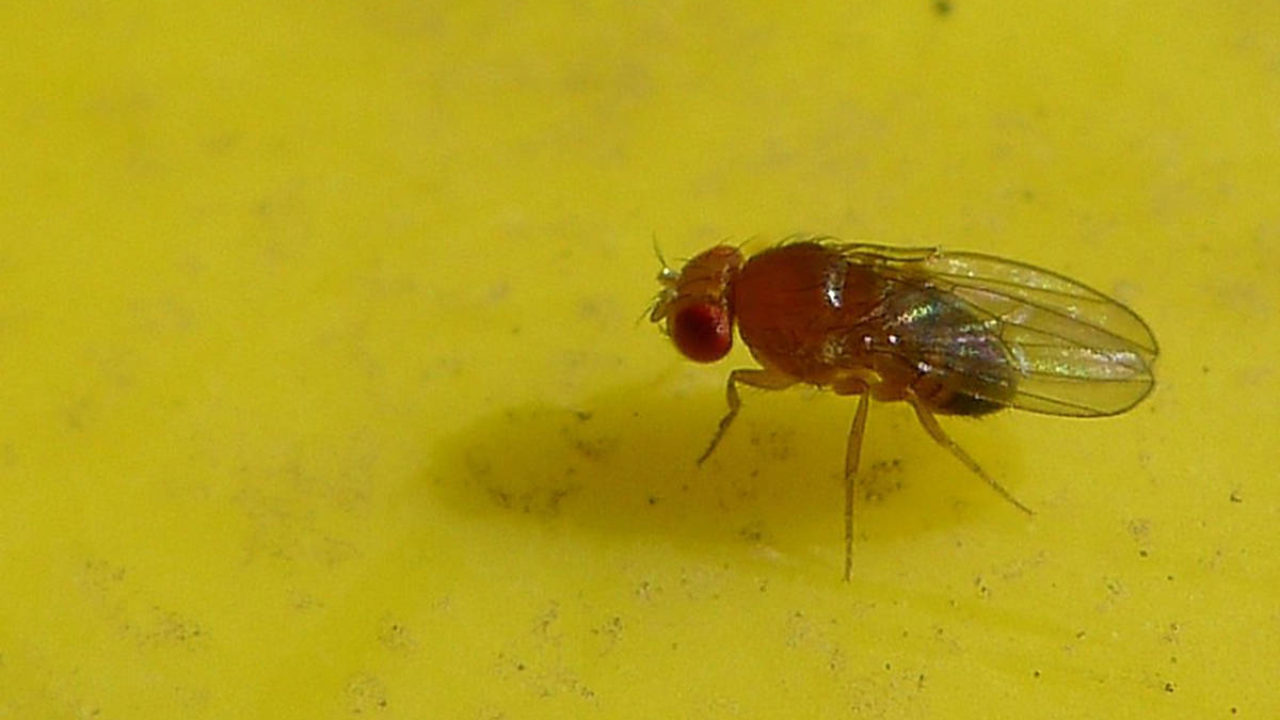Fruit fly: (614, 168, 1220, 568)
